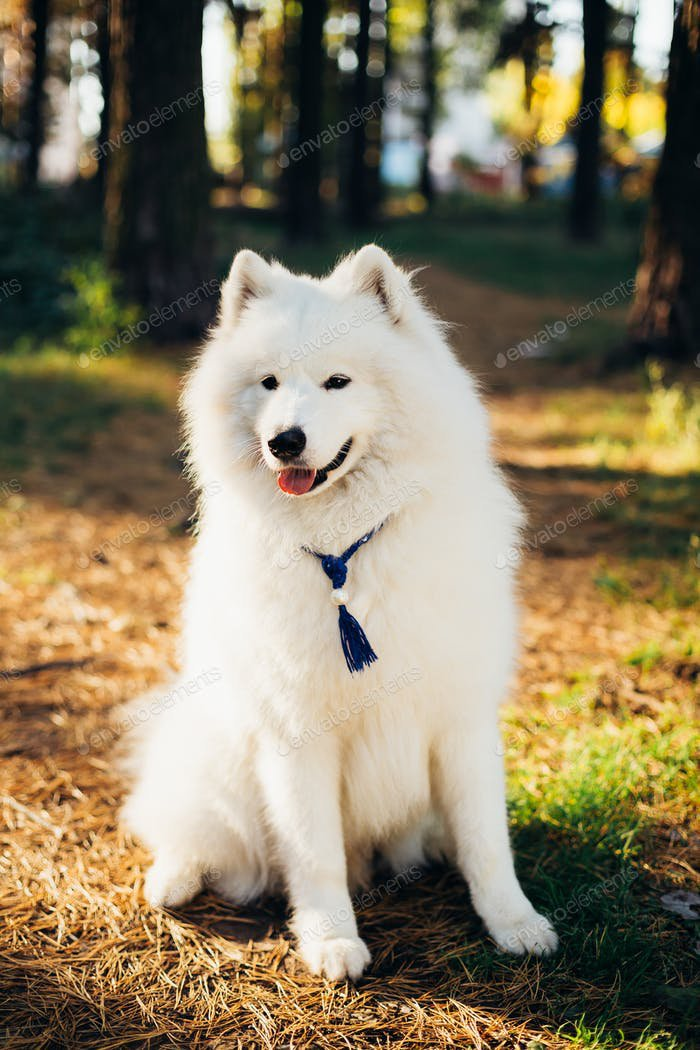dog: (137, 240, 589, 982)
